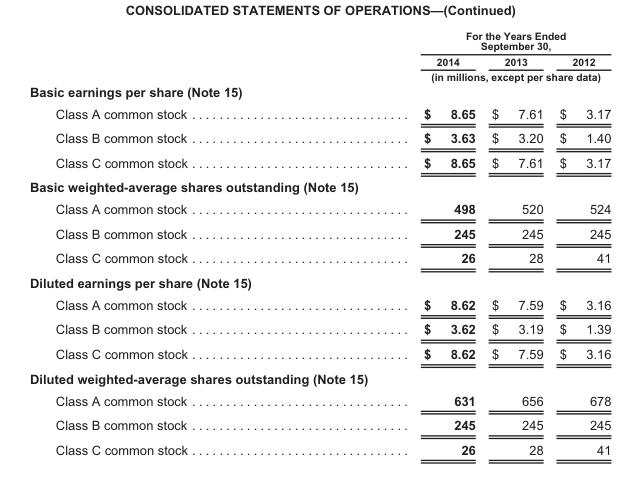table: (29, 29, 610, 456)
table column: (29, 29, 305, 456), (305, 29, 482, 456), (482, 29, 550, 456), (550, 29, 610, 456)
table column header: (29, 29, 610, 82)
table projected row header: (29, 269, 610, 293), (29, 174, 610, 197), (29, 365, 610, 388), (29, 82, 610, 101)
table row: (29, 149, 610, 174), (29, 220, 610, 245), (29, 316, 610, 341), (29, 29, 610, 53), (29, 101, 610, 125), (29, 125, 610, 149), (29, 245, 610, 269), (29, 269, 610, 293), (29, 341, 610, 365), (29, 388, 610, 412), (29, 412, 610, 436), (29, 174, 610, 197), (29, 197, 610, 220), (29, 293, 610, 316), (29, 365, 610, 388), (29, 436, 610, 456), (29, 82, 610, 101), (29, 53, 610, 68), (29, 68, 610, 82)
table spanning cell: (305, 29, 610, 53), (305, 68, 610, 82)
